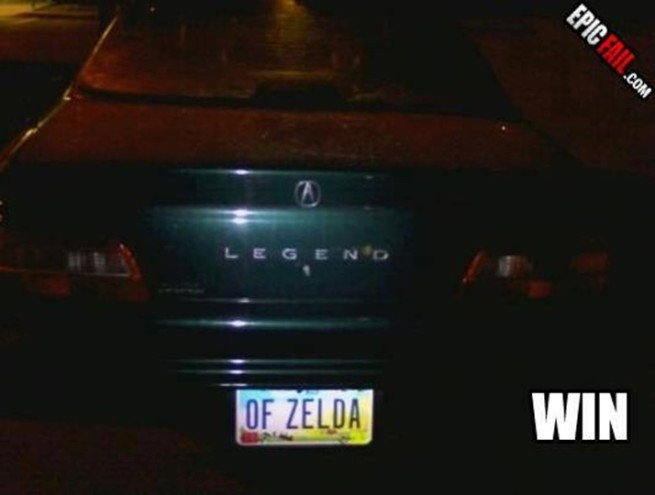license plate: (234, 384, 375, 451)
